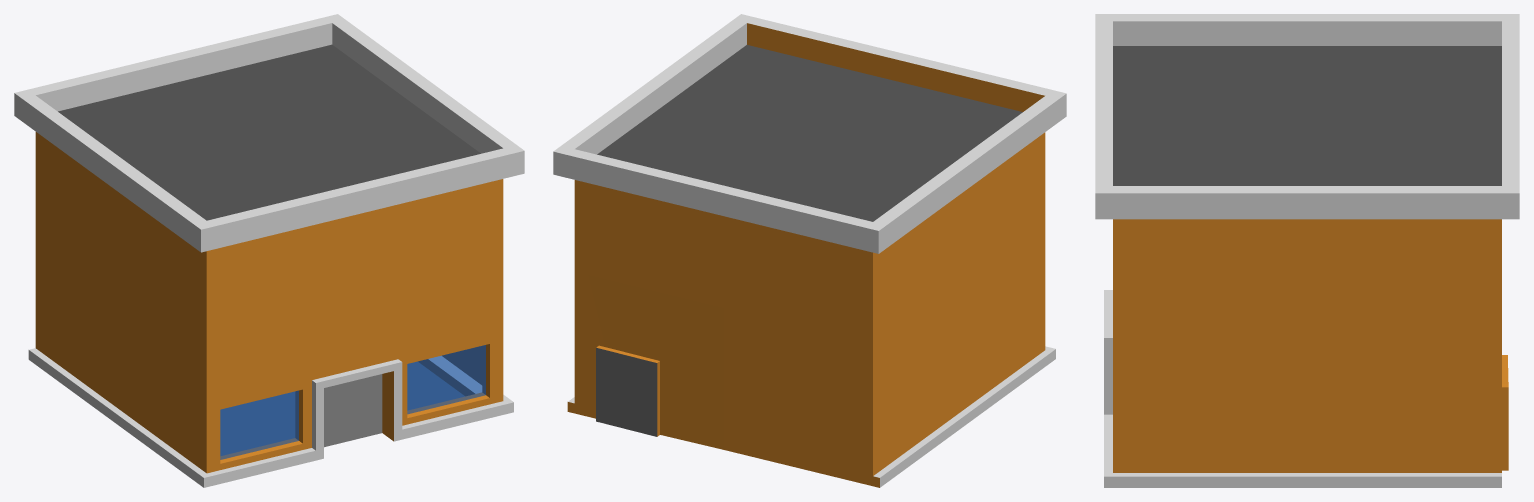
The model's file is boba_house.glb.
3 renders of one model, left to right at view 1: azimuth 30°, elevation 25°; view 2: azimuth 150°, elevation 25°; view 3: azimuth 270°, elevation 25°, orthographic. The views are drawn at different scales.
Parts seen in each view (by area): view 1: Cube; view 2: Cube; view 3: Cube.
Part boxes in pixels (left/top/right/bottom): Cube: left=14, top=14, right=524, bottom=487; Cube: left=553, top=14, right=1066, bottom=487; Cube: left=1095, top=14, right=1519, bottom=487.
Bounding box in the file's own units: 2.4 × 1.87 × 2.4.
